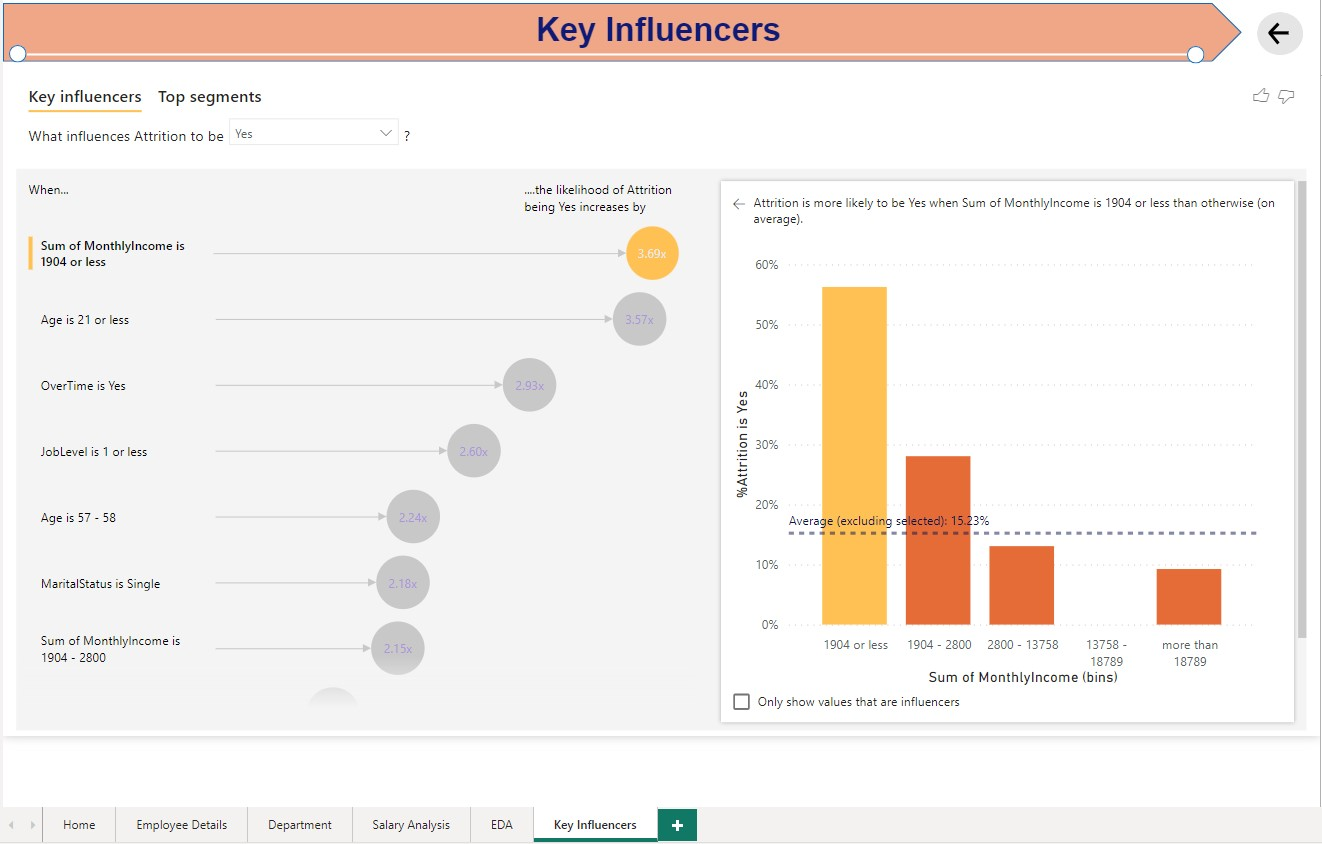

The dashboard page shown, as its layout file describes it:
{"tool":"powerbi","page":{"name":"Key Influencers","canvas":[1280,720],"ordinal":5},"visuals":[{"type":"keyDriversVisual","fields":{"Target":["Attrition.Attrition"],"ExplainBy":["Attrition.MaritalStatus","Attrition.OverTime","Attrition.JobLevel","Sum(Attrition.MonthlyIncome)","Attrition.Age"]},"box":[7.8,73.9,1264.4,646.3],"z":0},{"type":"shape","box":[0,7.8,1204.2,57.3],"z":1000},{"type":"shape","box":[23.3,41.8,1129.4,32.1],"z":2000},{"type":"textbox","box":[335.3,10.7,603.6,52.5],"z":3000},{"type":"shape","box":[5.8,48.6,17.5,16.5],"z":4000},{"type":"shape","box":[1150.7,49.6,17.5,16.5],"z":5000},{"type":"actionButton","box":[1218.8,16.5,44.7,41.8],"z":6000}]}

Visuals, with their boxes on the page's 1280x720 design canvas (x1, y1, x2, y2). These are canvas units, not pixel positions in the 1322x844 screenshot, which may show the page scaled, cropped or inside an application window:
keyDriversVisual - Attrition.Attrition x Attrition.MaritalStatus: x1=8 y1=74 x2=1272 y2=720
shape: x1=0 y1=8 x2=1204 y2=65
shape: x1=23 y1=42 x2=1153 y2=74
textbox: x1=335 y1=11 x2=939 y2=63
shape: x1=6 y1=49 x2=23 y2=65
shape: x1=1151 y1=50 x2=1168 y2=66
actionButton: x1=1219 y1=16 x2=1264 y2=58
